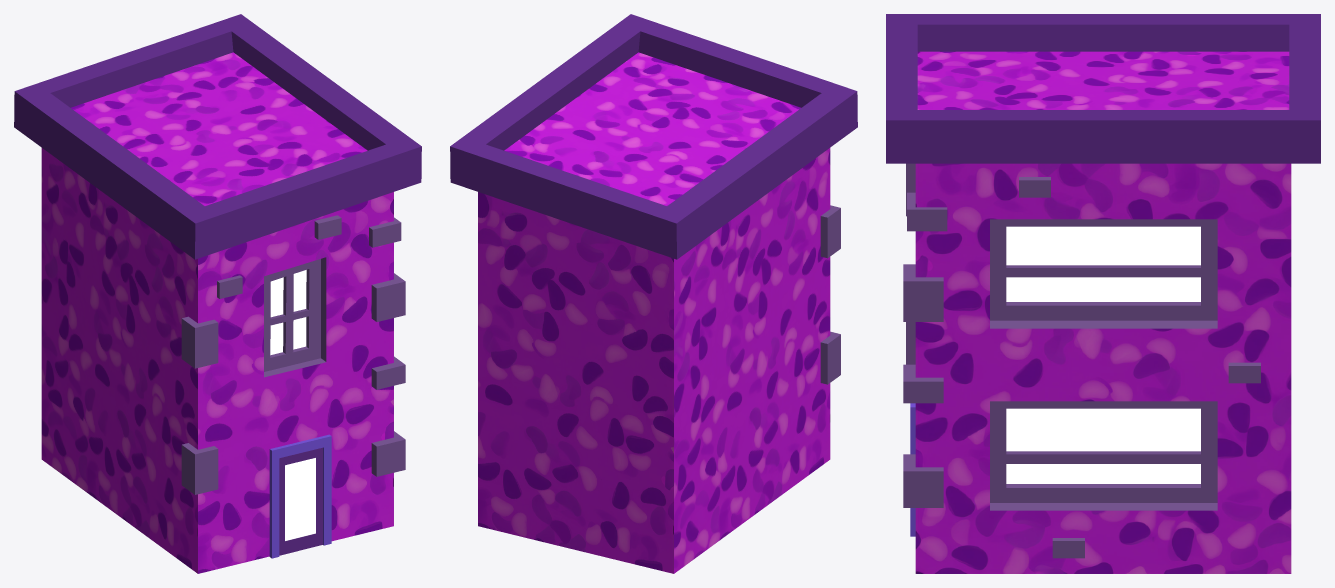
File: Purple building Big.fbx
3 views of the same model, side by side, from view 1: azimuth 30°, elevation 25°; view 2: azimuth 150°, elevation 25°; view 3: azimuth 270°, elevation 25° (orthographic). The views are drawn at different scales.
Visible parts, largest first — view 1: Purple building Big; view 2: Purple building Big; view 3: Purple building Big.
Boxes of the visible parts, <box> form: Purple building Big: <box>14,14,421,573</box>; Purple building Big: <box>450,14,857,573</box>; Purple building Big: <box>886,14,1320,573</box>.
Bounding box in the file's own units: 940 × 1526 × 1297.
6 materials, 1 textured.
